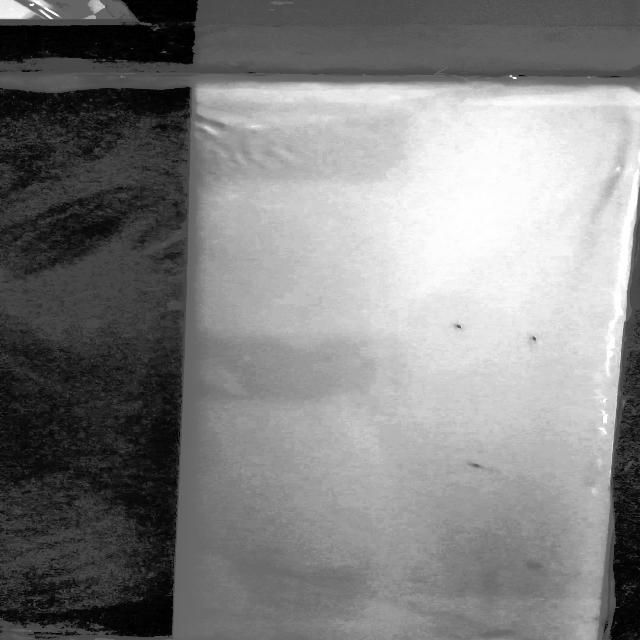shrimp: (521, 329, 548, 349), (522, 557, 551, 573), (448, 318, 472, 337), (466, 462, 488, 469)
